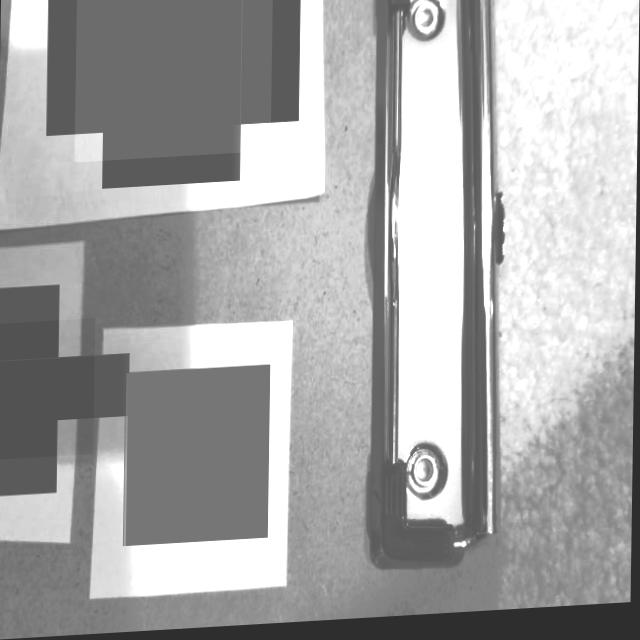qr_code: (74, 0, 272, 163), (124, 368, 270, 548), (0, 319, 95, 460)
